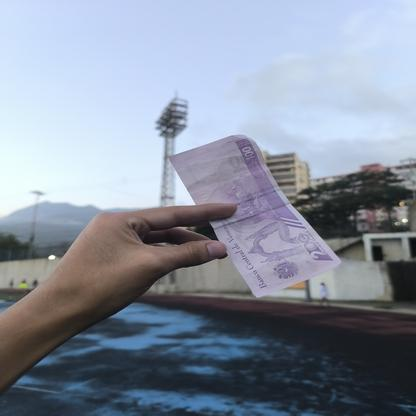vef_back: (167, 132, 342, 298)
